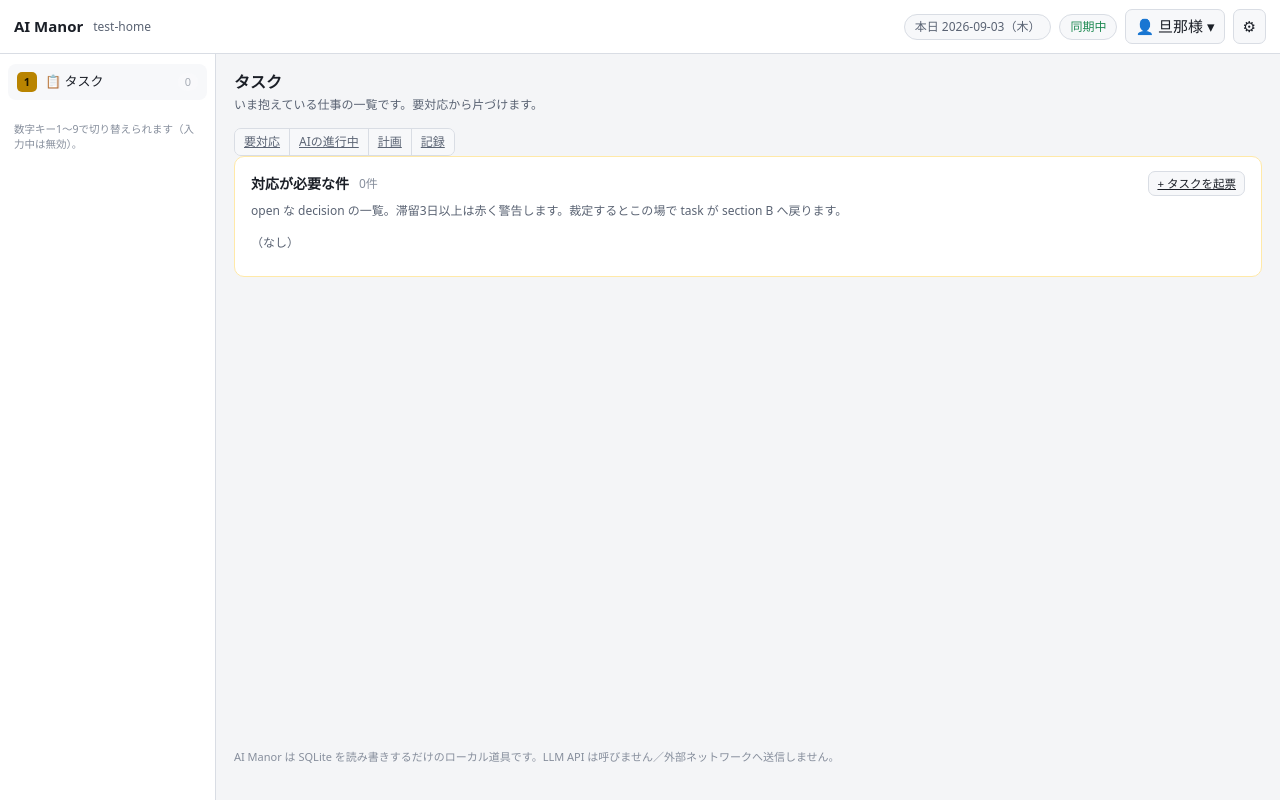
Test: App — 利用者チップ（ADR-014 D3。誰として見ているかの常時表示と切り替え） › メニューから利用者を選ぶと POST /users/switch を呼び、chip の名前が切り替わる
Click the button "👤 旦那様 ▾" at (1175, 27), box x1=1126 y1=9 x2=1225 y2=44
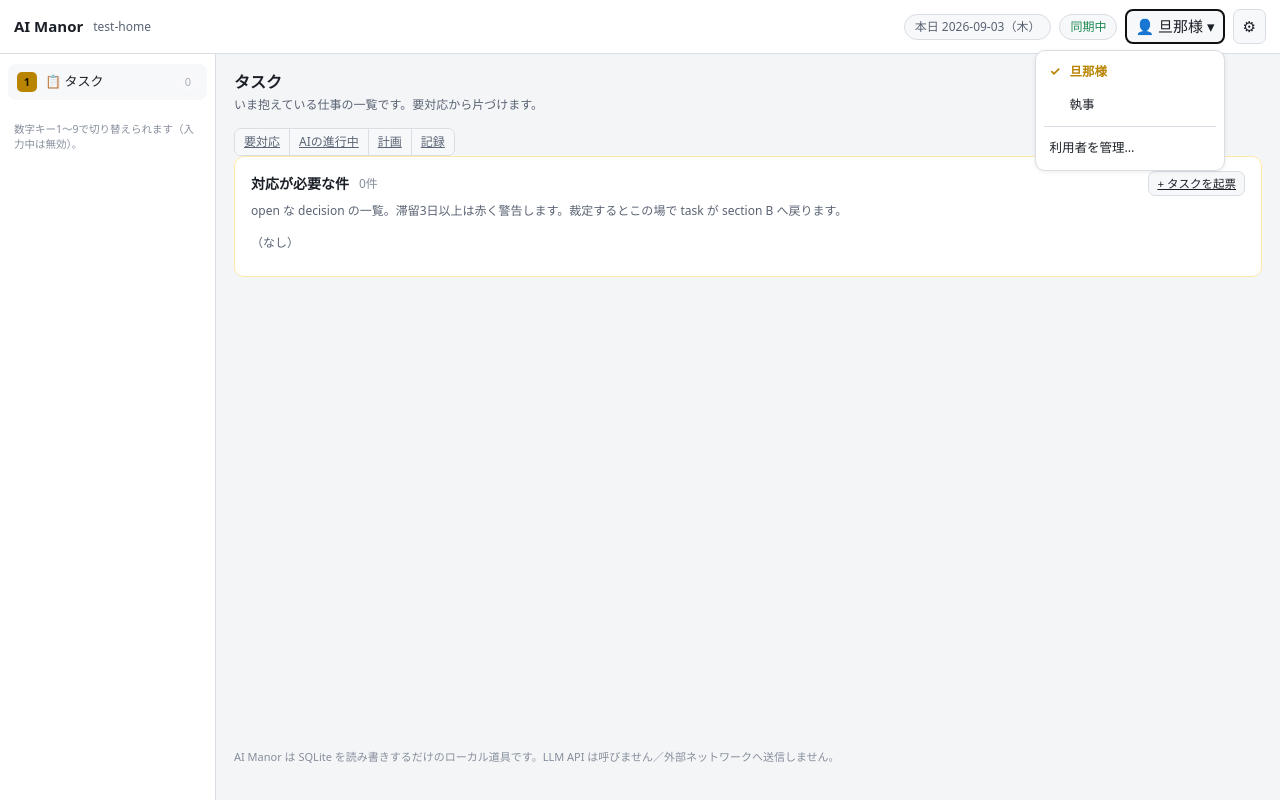
Click the menu item "執事" at (1130, 105), box x1=1042 y1=90 x2=1218 y2=120
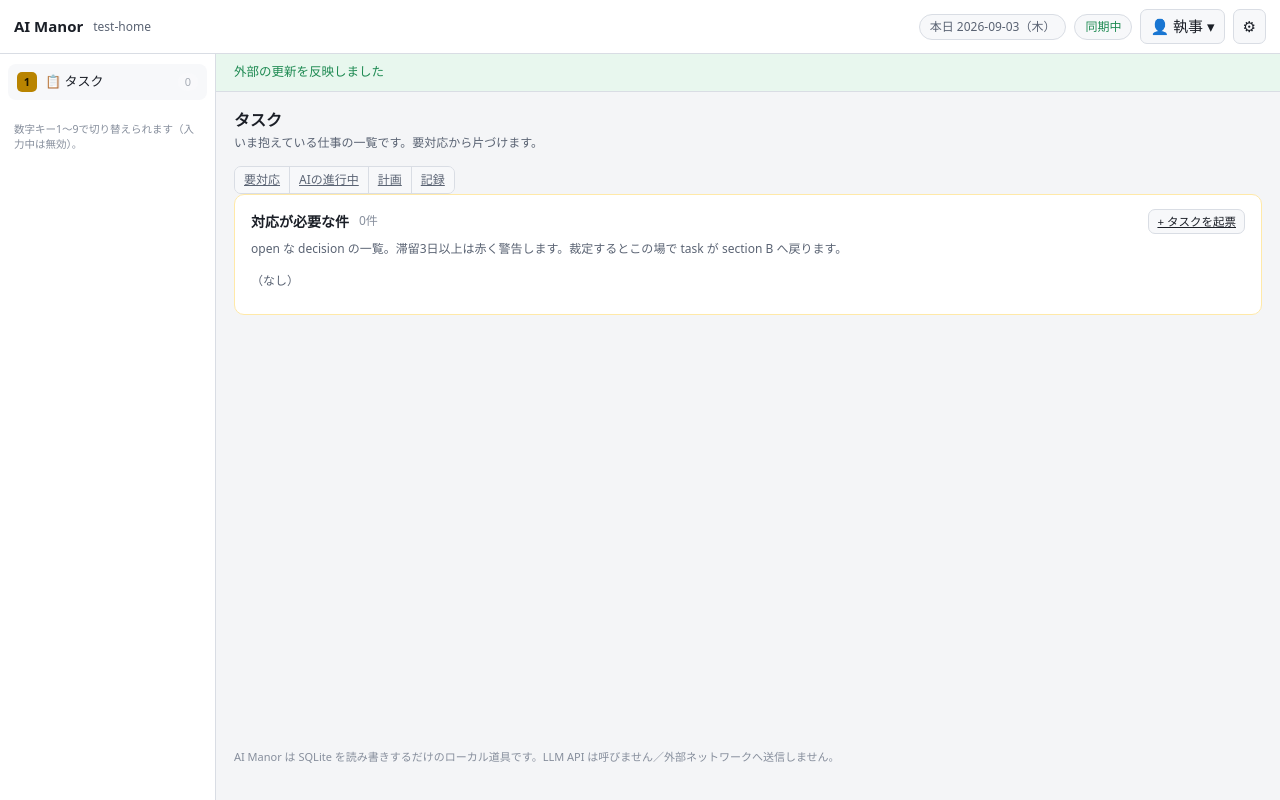
Result: the button "👤 執事 ▾" is shown at x1=1140 y1=9 x2=1225 y2=44
